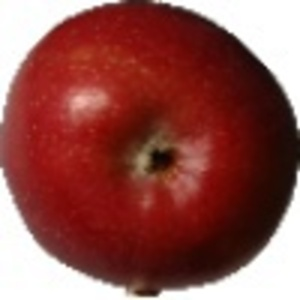maçã braeburn: (1, 1, 300, 295)
